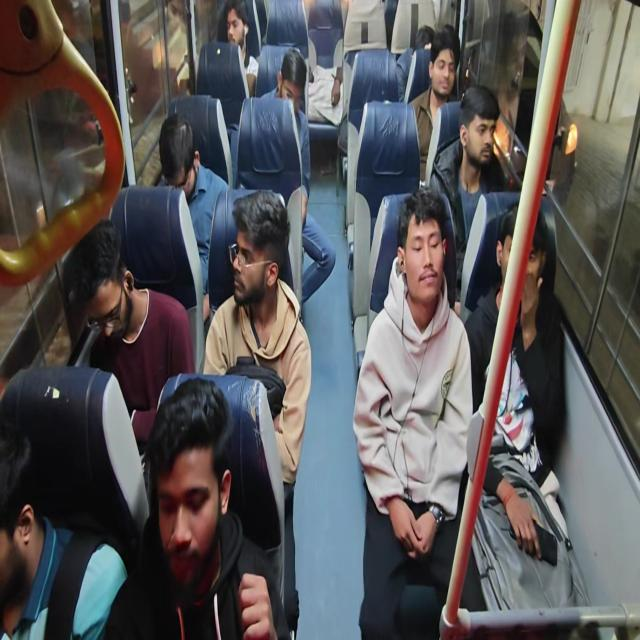person: (352, 186, 477, 638), (464, 202, 590, 613), (103, 376, 291, 639), (202, 188, 312, 636), (66, 217, 195, 454), (0, 424, 128, 639), (260, 48, 336, 305), (464, 203, 549, 413), (428, 83, 505, 304), (158, 111, 229, 320), (408, 26, 460, 185), (303, 0, 347, 125), (220, 0, 259, 98), (396, 24, 435, 102)
